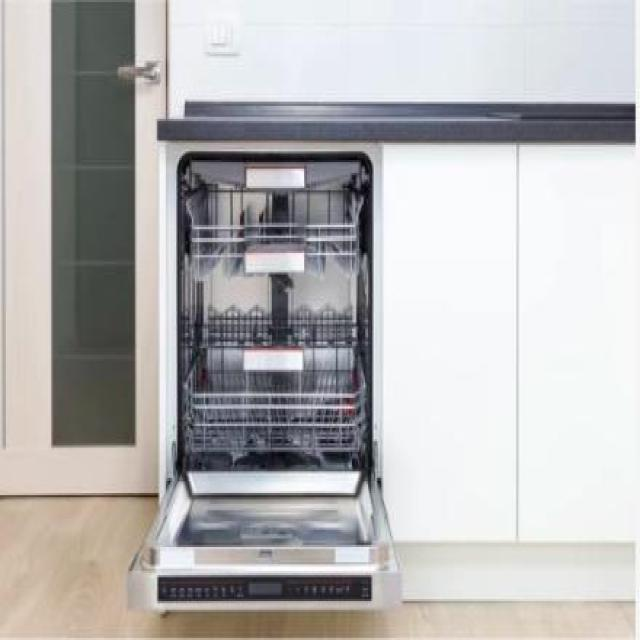dishwasher: (170, 147, 383, 618)
